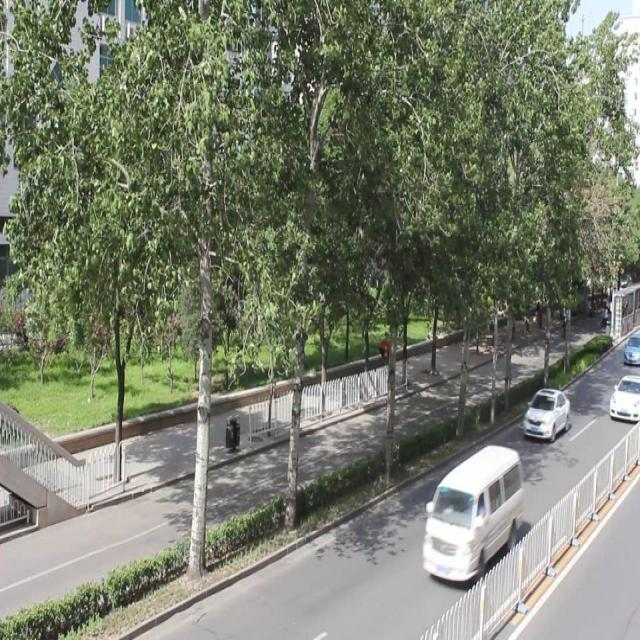car: (524, 385, 568, 440), (608, 371, 640, 417)
truck: (424, 444, 520, 579)
